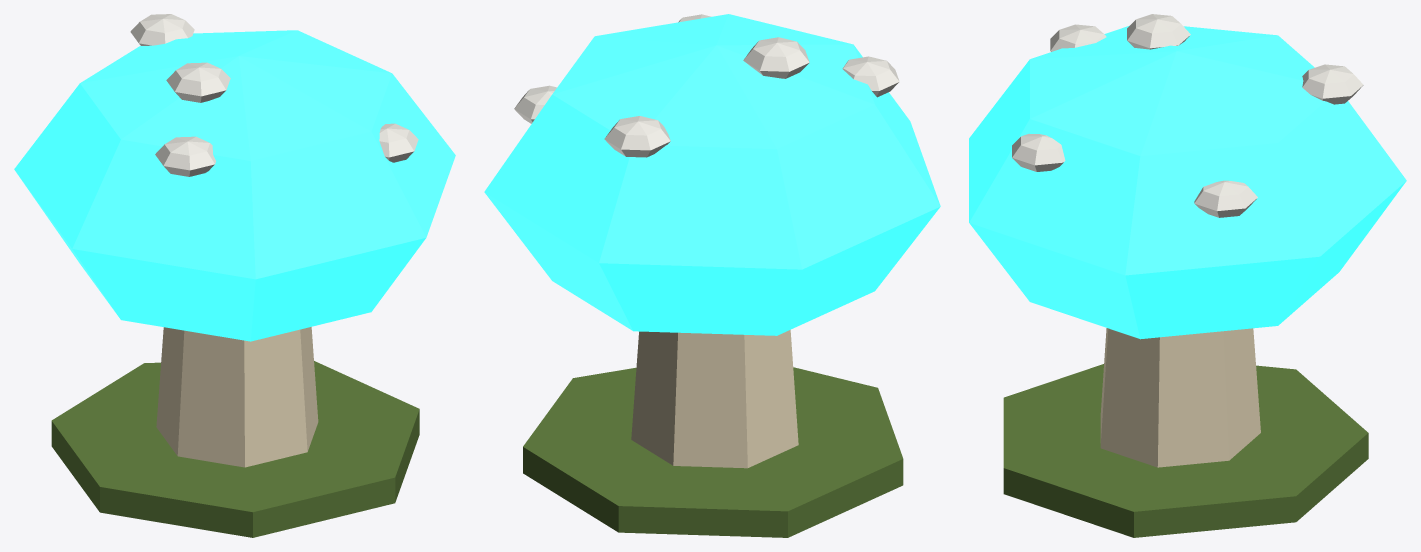
The model's file is mushroom-lod1.glb.
3 renders of one model, left to right at view 1: azimuth 30°, elevation 25°; view 2: azimuth 150°, elevation 25°; view 3: azimuth 270°, elevation 25°, orthographic. The views are drawn at different scales.
Parts seen in each view (by area): view 1: mushroom; view 2: mushroom; view 3: mushroom.
Part boxes in pixels (bbox=[...]): mushroom: bbox=[14, 14, 455, 537]; mushroom: bbox=[484, 14, 940, 537]; mushroom: bbox=[969, 14, 1406, 537].
Bounding box in the file's own units: 0.468 × 0.4775 × 0.4562.
